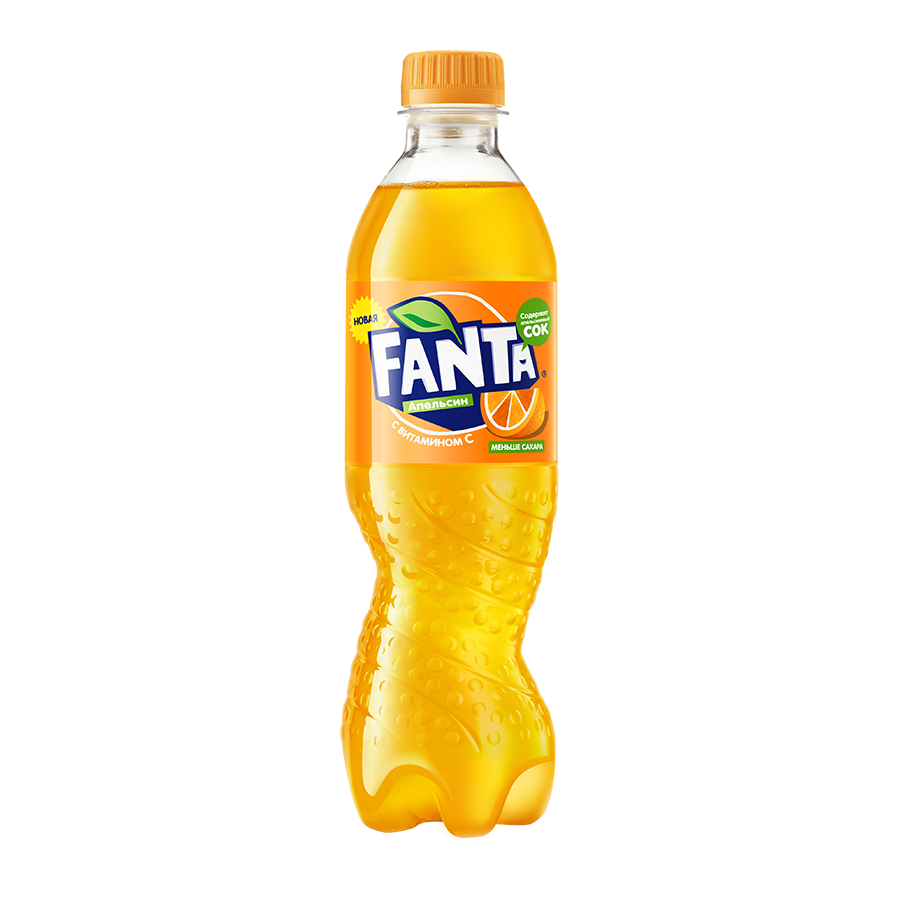Fanta: (309, 60, 612, 861)
